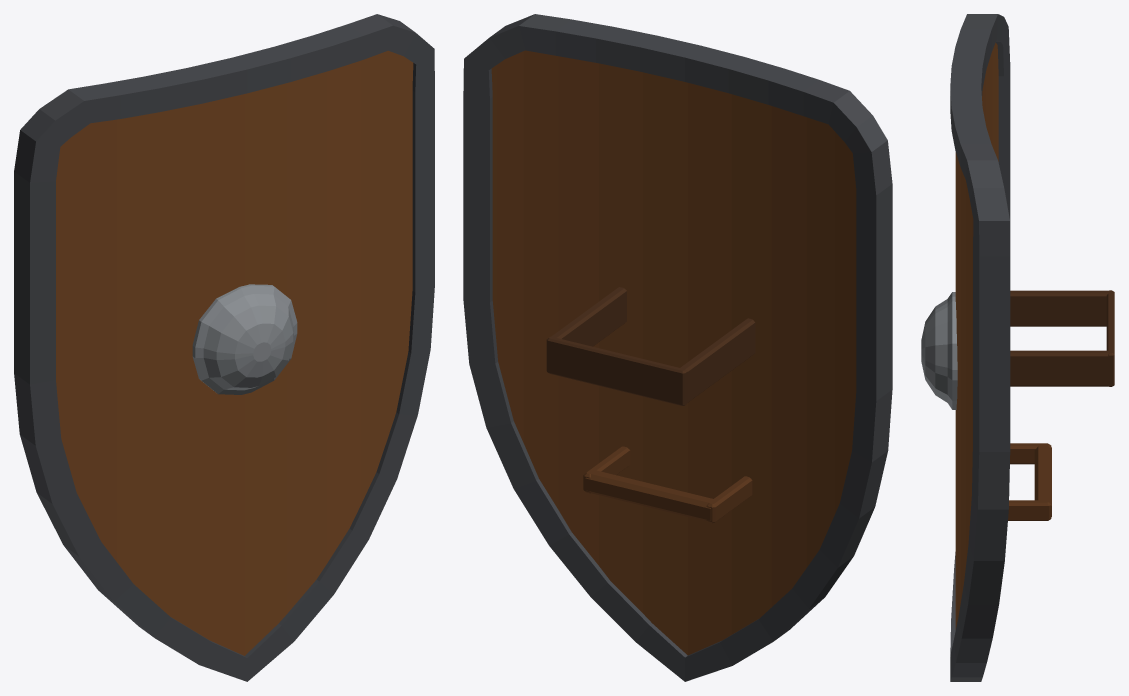
The model's file is chopper_shield.fbx.
3 views of the same model, side by side, from view 1: azimuth 30°, elevation 25°; view 2: azimuth 150°, elevation 25°; view 3: azimuth 270°, elevation 25° (orthographic). The views are drawn at different scales.
Visible parts, largest first — view 1: chopper_shield; view 2: chopper_shield; view 3: chopper_shield.
Part boxes in pixels (x1,y1,x2,y2): chopper_shield: (14,14,434,681); chopper_shield: (463,14,892,681); chopper_shield: (921,14,1114,681).
Bounding box in the file's own units: 0.674 × 0.974 × 0.287.
